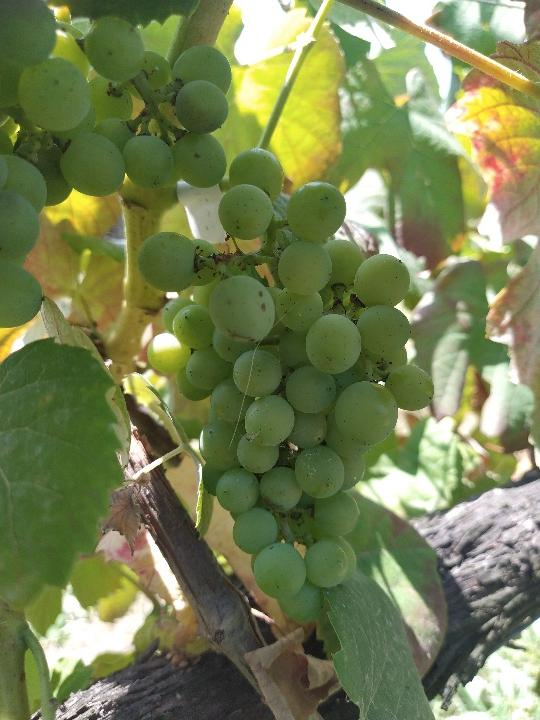grape: (138, 149, 434, 627)
